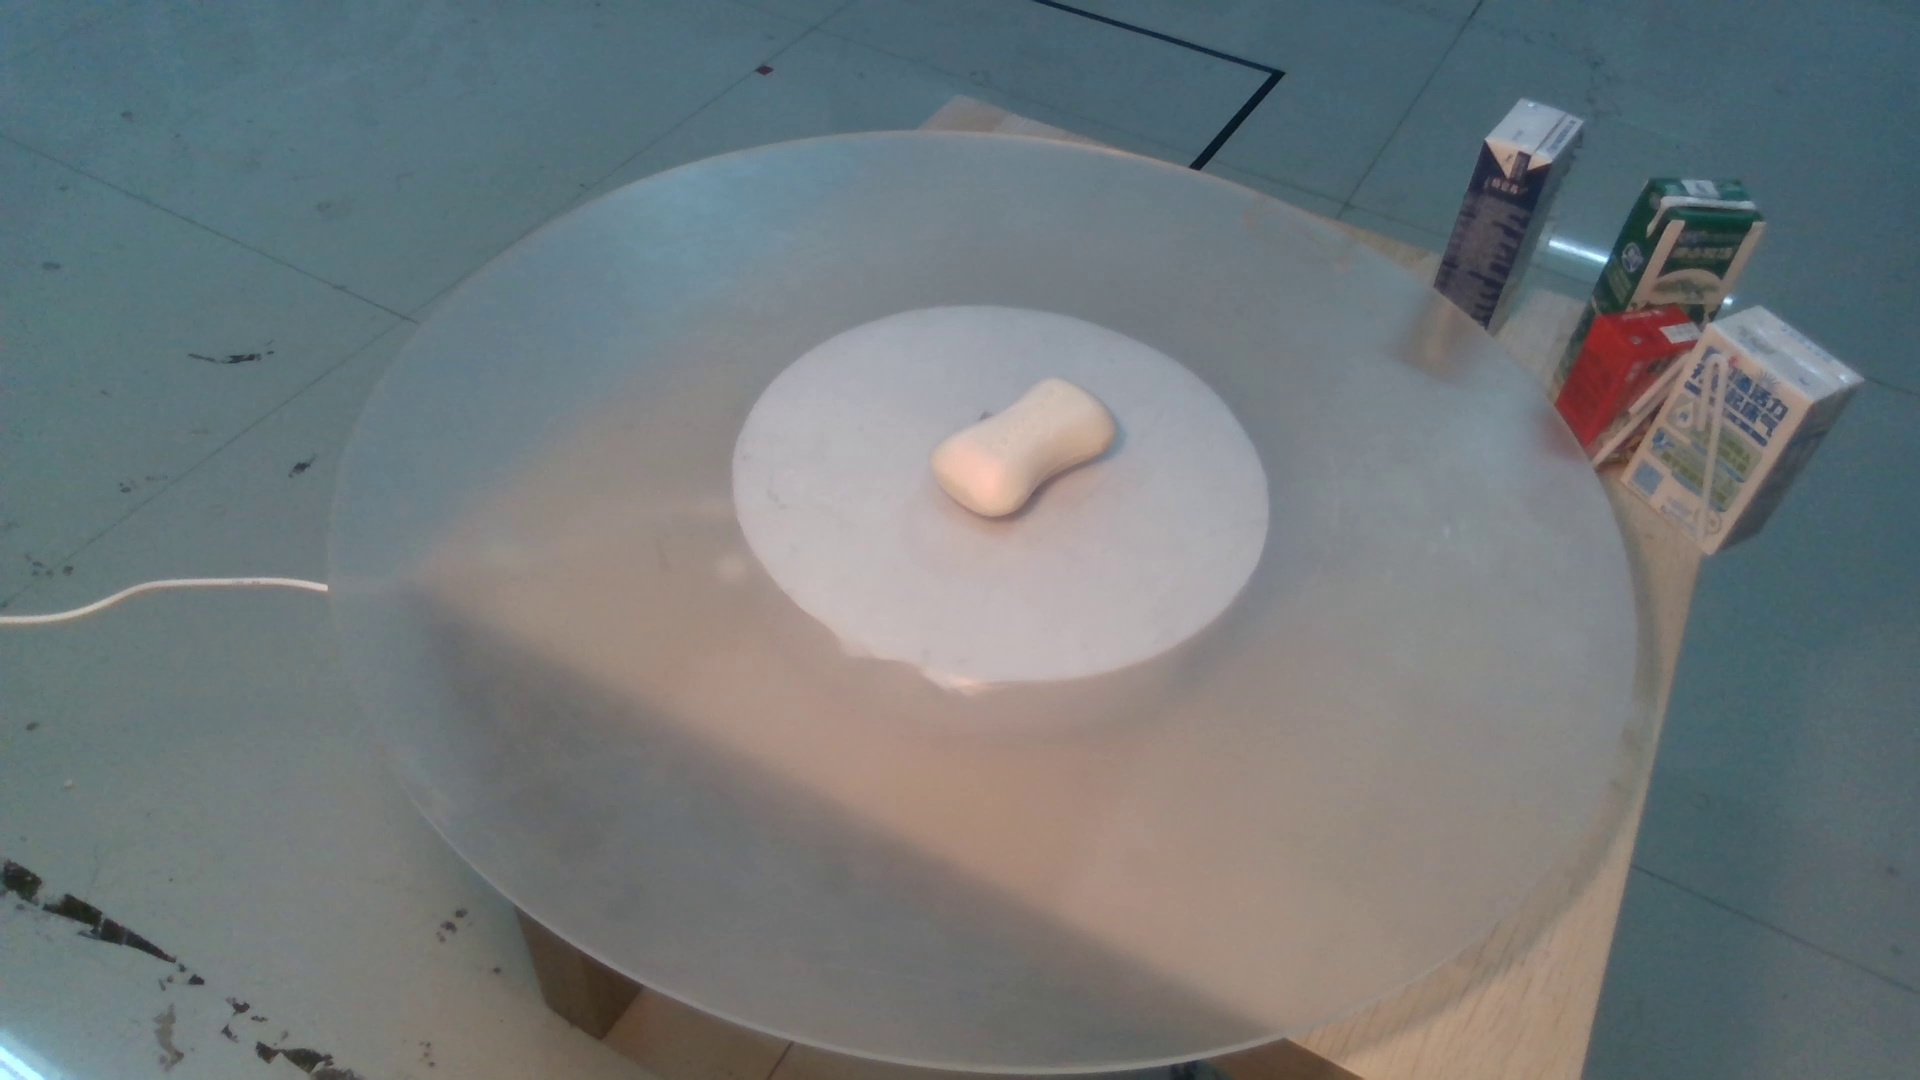CA003_1: (934, 373, 1124, 516)
